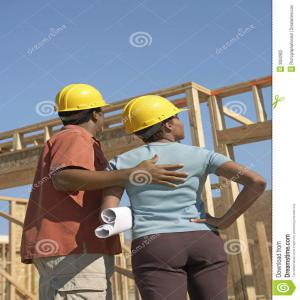yellow: (123, 97, 191, 146), (54, 85, 109, 136)
